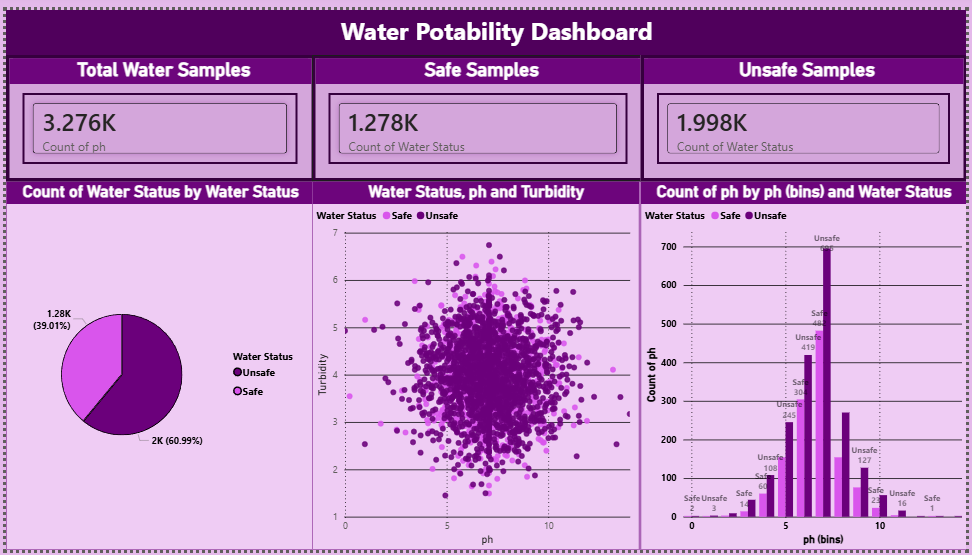

The page's visual inventory and layout, read from the dashboard file:
{"tool":"powerbi","page":{"name":"Page 1","canvas":[1280,720],"ordinal":0},"visuals":[{"type":"pieChart","title":"Water Status Distribution","fields":{"Category":["water_potability.Water Status"],"Y":["CountNonNull(water_potability.Water Status)"]},"box":[0,228,412,440],"z":0},{"type":"clusteredColumnChart","title":"pH Distribution by Water Status","fields":{"Category":["water_potability.ph (bins)"],"Series":["water_potability.Water Status"],"Y":["CountNonNull(water_potability.ph)"]},"box":[846,228,434,440],"z":1000},{"type":"scatterChart","fields":{"X":["water_potability.ph"],"Y":["water_potability.Turbidity"],"Series":["water_potability.Water Status"]},"box":[408,228,438,440],"z":2000},{"type":"cardVisual","title":"Total Water Samples","fields":{"Data":["CountNonNull(water_potability.ph)"]},"box":[0,60,411.7,168.3],"z":3000},{"type":"cardVisual","title":"Safe Samples","fields":{"Data":["CountNonNull(water_potability.Water Status)"]},"box":[408.3,60,443.3,168.3],"z":4000},{"type":"cardVisual","title":"       Unsafe Samples","fields":{"Data":["CountNonNull(water_potability.Water Status)"]},"box":[845,60,435,168.3],"z":5000},{"type":"textbox","box":[0,0,1280,60],"z":6000},{"type":"textbox","box":[0,694,1280,26],"z":7000},{"type":"textbox","box":[0,668,1280,52],"z":8000}]}

Visuals, with their boxes in screenshot pixels (x1, y1, x2, y2), scaled from the page's 1280x720 canvas onto the 972x555 screenshot:
"Water Status Distribution" pieChart: {"left": 0, "top": 176, "right": 313, "bottom": 515}
"pH Distribution by Water Status" clusteredColumnChart: {"left": 642, "top": 176, "right": 971, "bottom": 515}
scatterChart - water_potability.ph x water_potability.Turbidity: {"left": 310, "top": 176, "right": 642, "bottom": 515}
"Total Water Samples" cardVisual: {"left": 0, "top": 46, "right": 313, "bottom": 176}
"Safe Samples" cardVisual: {"left": 310, "top": 46, "right": 647, "bottom": 176}
"       Unsafe Samples" cardVisual: {"left": 642, "top": 46, "right": 971, "bottom": 176}
textbox: {"left": 0, "top": 0, "right": 971, "bottom": 46}
textbox: {"left": 0, "top": 535, "right": 971, "bottom": 554}
textbox: {"left": 0, "top": 515, "right": 971, "bottom": 554}
